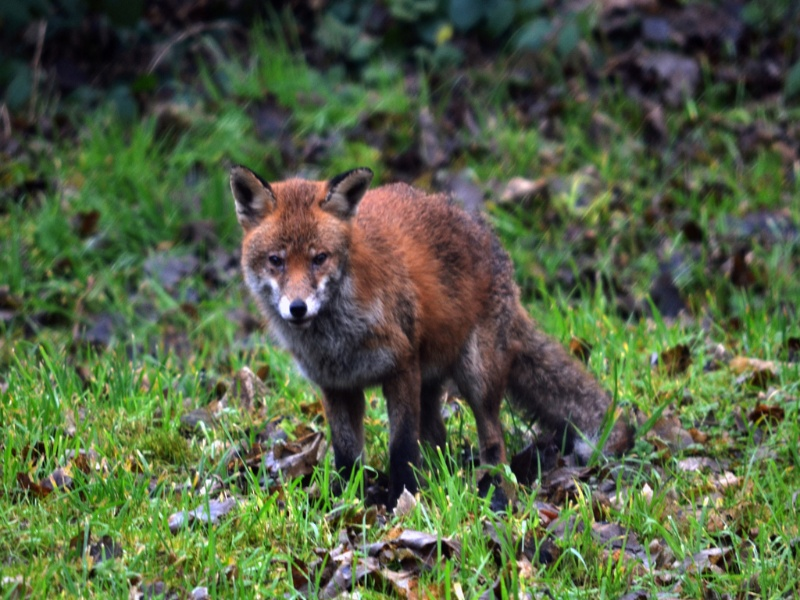fox: (228, 163, 623, 505)
